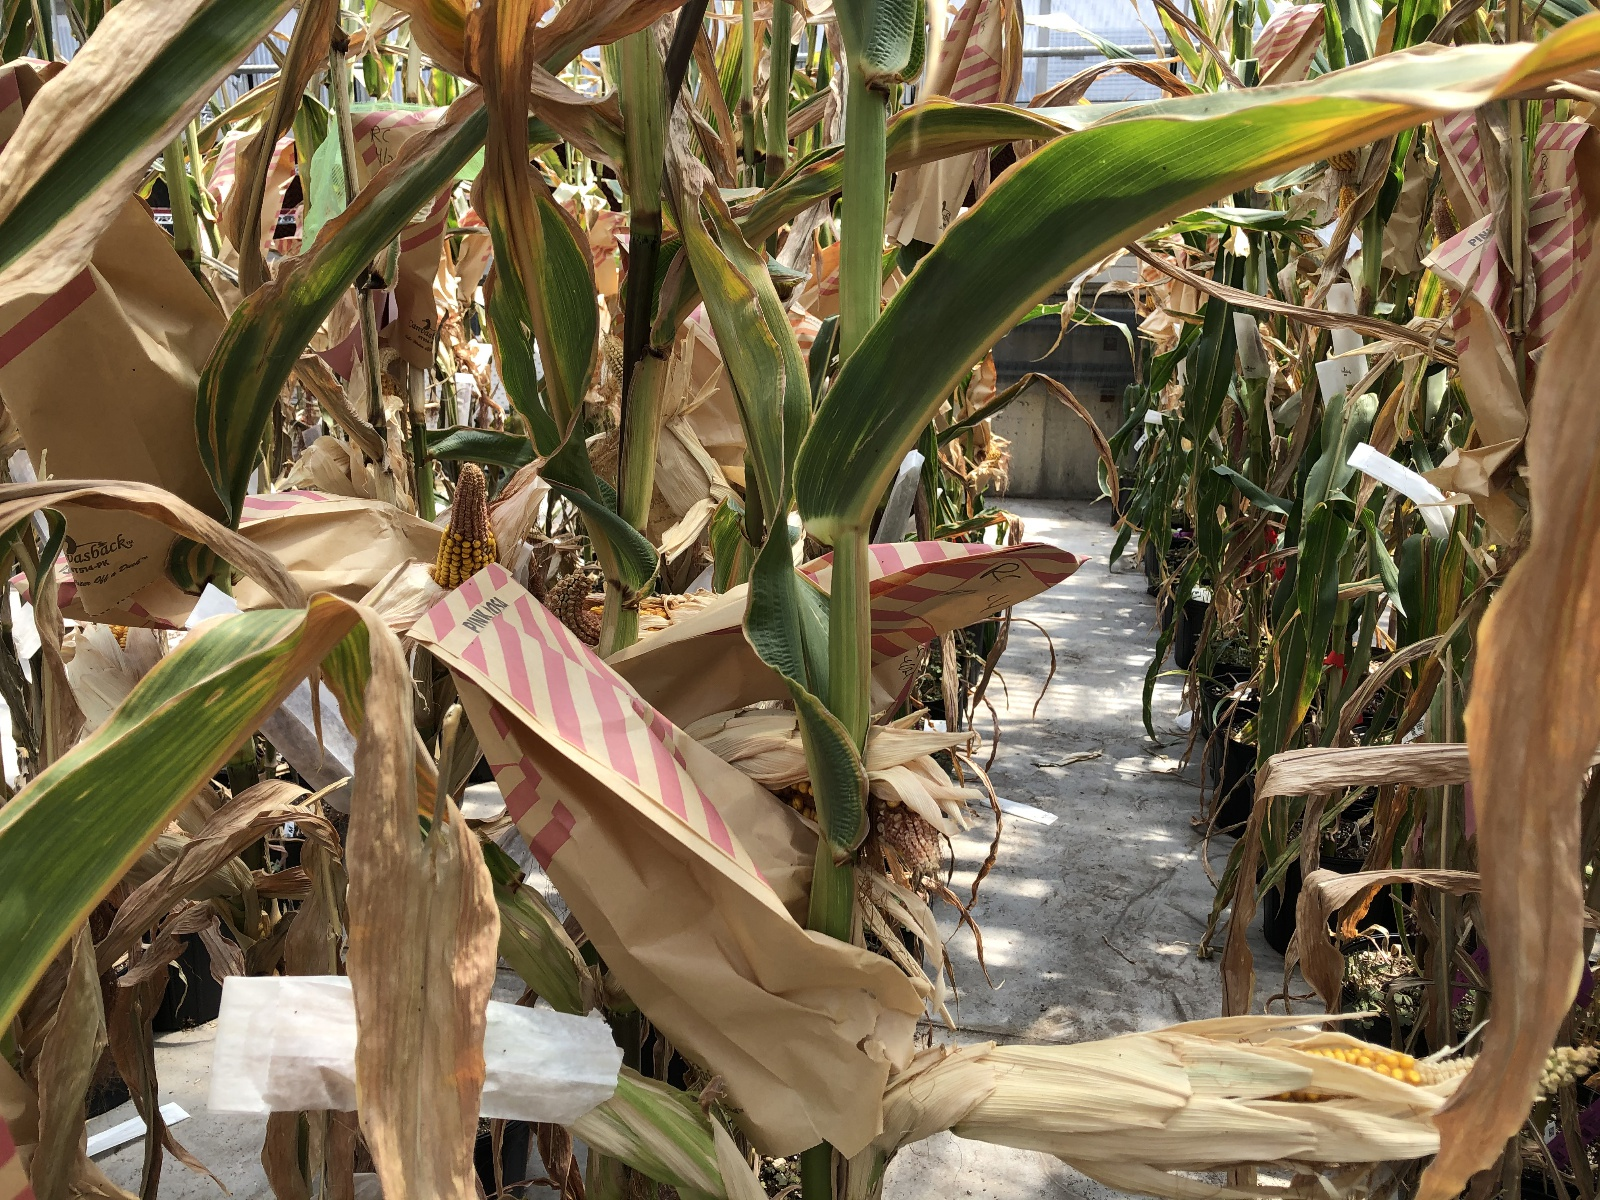ear: (946, 1031, 1592, 1162), (714, 718, 968, 881), (603, 342, 711, 503), (542, 562, 729, 642), (427, 458, 511, 603), (1426, 192, 1461, 250), (105, 625, 145, 666), (1334, 176, 1359, 223), (1296, 219, 1319, 245), (1332, 144, 1353, 170)
